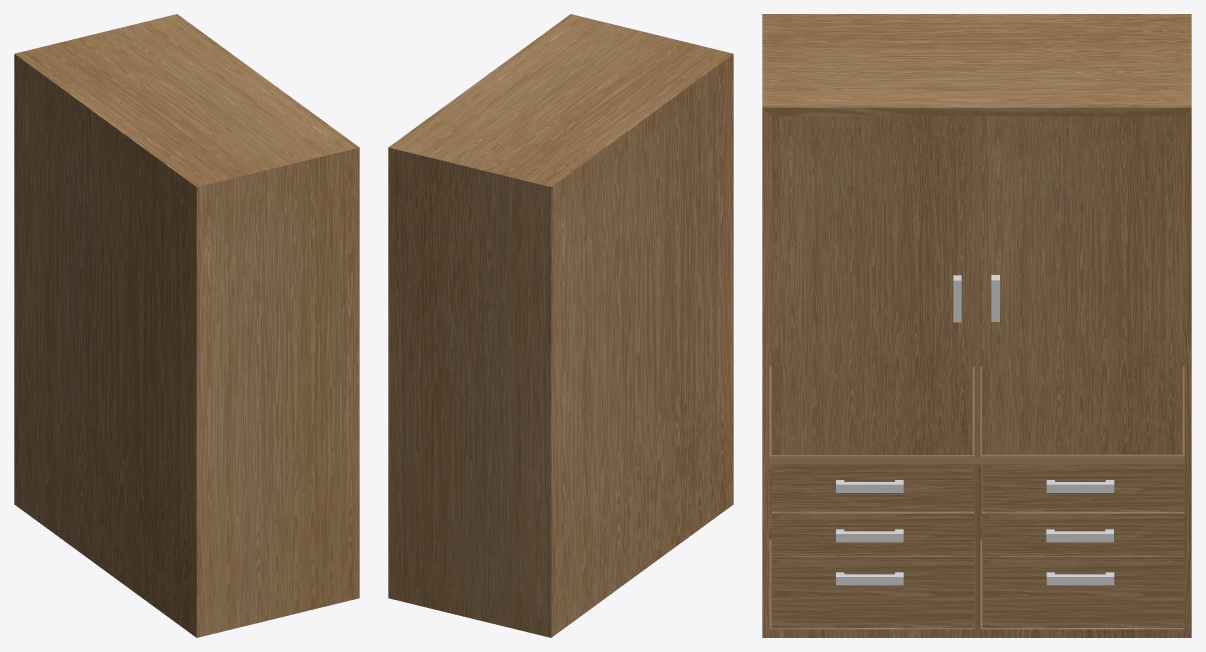
Rendered from closet_de_madera.glb.
3 views of the same model, side by side, from view 1: azimuth 30°, elevation 25°; view 2: azimuth 150°, elevation 25°; view 3: azimuth 270°, elevation 25° (orthographic). The views are drawn at different scales.
Parts seen in each view (by area): view 1: Cube_0; view 2: Cube_0; view 3: Cube.014_8, Cube.015_9, Cube_0, Cube.002_1, Cube.004_2, Cube.012_7, Cube.008_5, Cube.006_3, Cube.007_4, Cube.010_6.
Part boxes in pixels (x1=…): Cube_0: x1=14, y1=14, x2=359, y2=637; Cube_0: x1=388, y1=14, x2=733, y2=637; Cube.014_8: x1=771, y1=116, x2=972, y2=454; Cube.015_9: x1=982, y1=116, x2=1182, y2=454; Cube_0: x1=762, y1=14, x2=1191, y2=637; Cube.002_1: x1=771, y1=556, x2=974, y2=627; Cube.004_2: x1=982, y1=556, x2=1184, y2=627; Cube.012_7: x1=982, y1=464, x2=1184, y2=511; Cube.008_5: x1=982, y1=464, x2=1184, y2=556; Cube.006_3: x1=771, y1=511, x2=974, y2=556; Cube.007_4: x1=771, y1=464, x2=974, y2=511; Cube.010_6: x1=836, y1=480, x2=903, y2=492.
Bounding box in the file's own units: 2.34 × 5.94 × 4.36.
19 materials, 9 textured.
